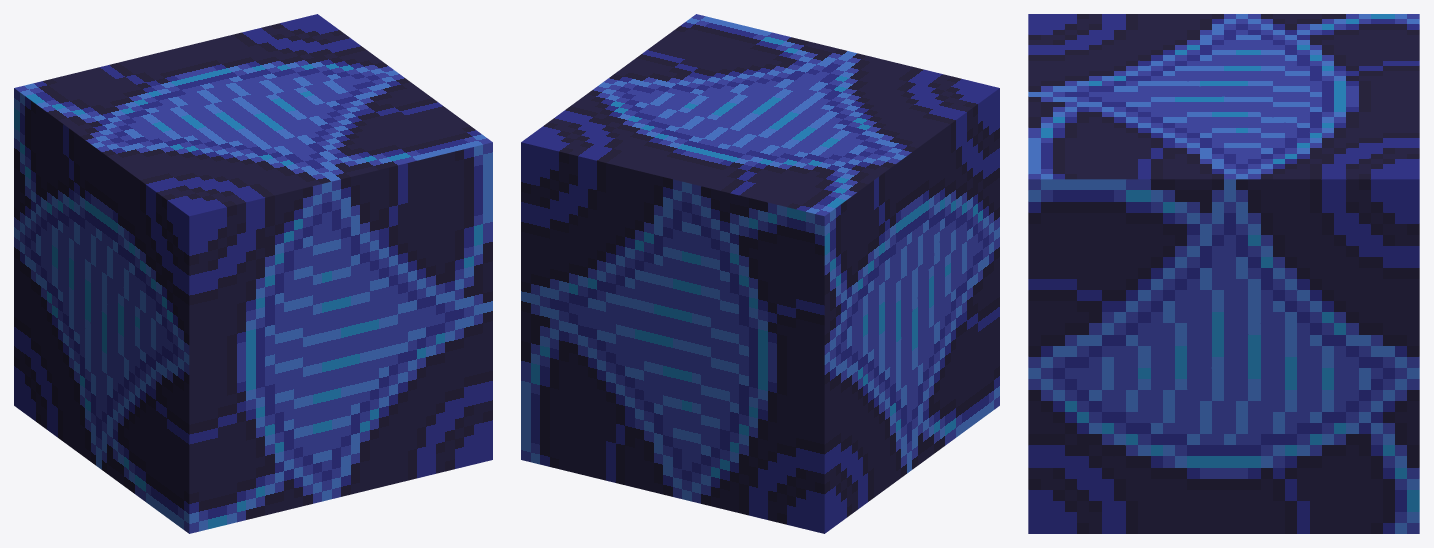
The model's file is block_blue_glazed_terracotta.gltf.
The picture shows the model from 3 angles, left to right: view 1: azimuth 30°, elevation 25°; view 2: azimuth 150°, elevation 25°; view 3: azimuth 270°, elevation 25°; orthographic projection. The views are drawn at different scales.
Parts seen in each view (by area): view 1: cube; view 2: cube; view 3: cube.
Boxes of the visible parts, x1,y1,x2,y2 form: cube: [14, 14, 492, 533]; cube: [521, 14, 999, 533]; cube: [1028, 14, 1419, 533].
Size of the model in its own units: 1 by 1 by 1.
Materials: 7 (7 with a texture image).
